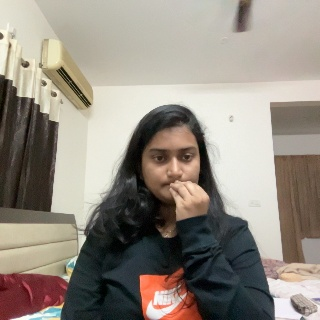Food: (167, 179, 212, 245)
